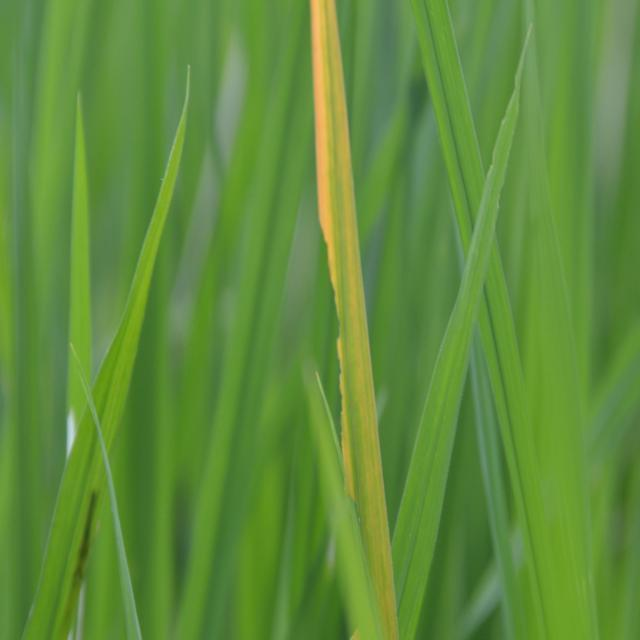Rice Tungro: (303, 14, 417, 640)
